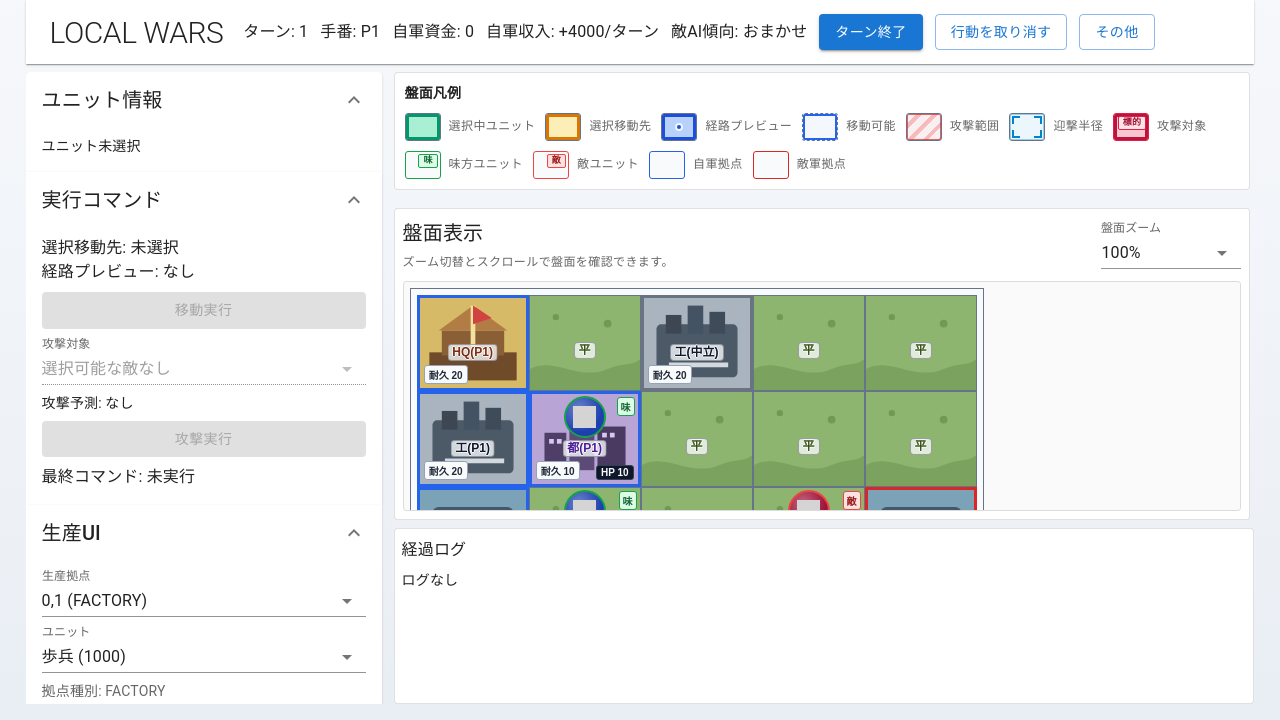
Test: BattleScreen UIテスト: コマンド操作(生産/状態) › 資金不足時は生産実行ボタンが不活性になる
Select "0,1 (FACTORY)" in the dropdown labelled "生産拠点": (204, 601) [42,585,366,617]
Select "歩兵 (1000)" in the dropdown labelled "ユニット": (204, 657) [42,641,366,673]
(page scrolled)
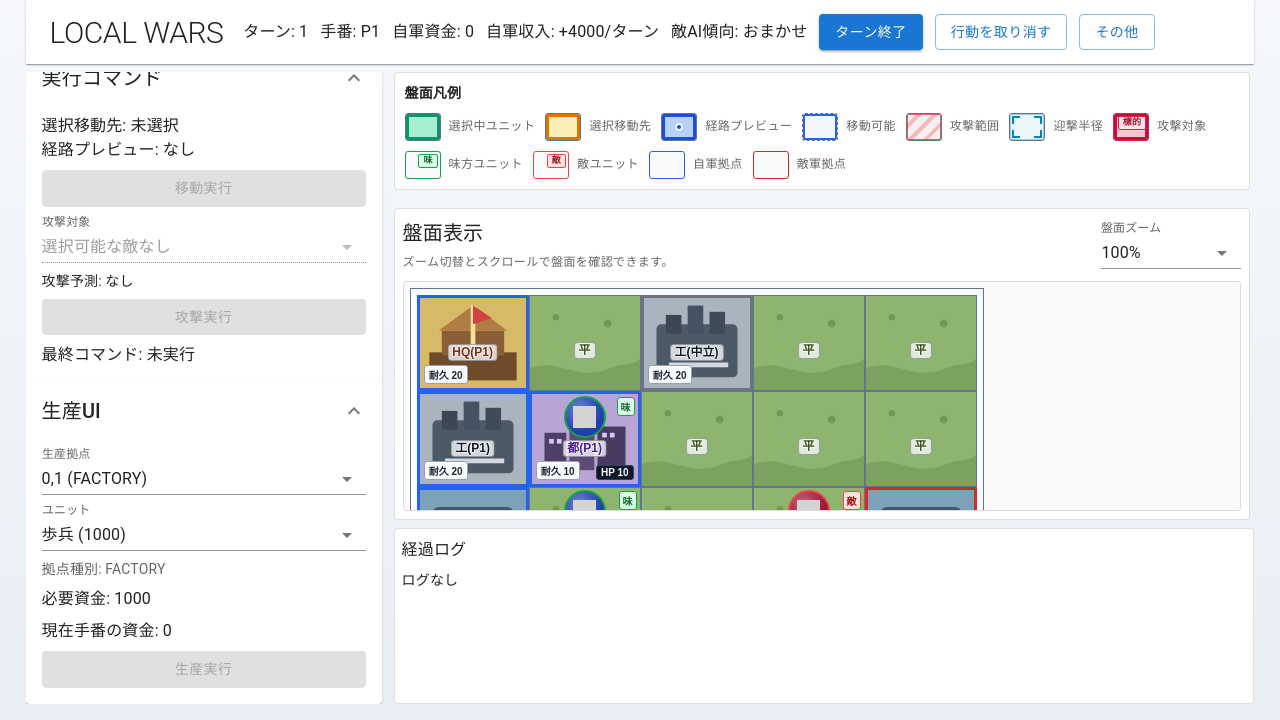
Now the button "生産実行" is disabled, box [42,651,366,688]
